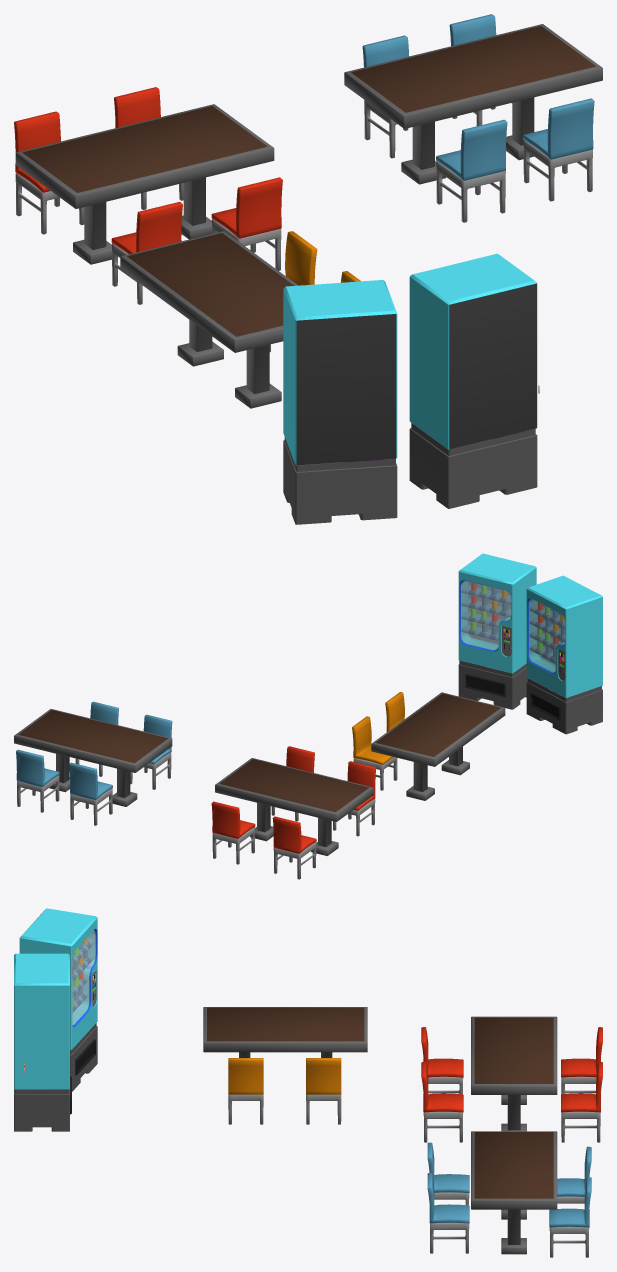
Rendered from MacchinetteETavoli.glb.
The picture shows the model from 3 angles, top to bottom: view 1: azimuth 30°, elevation 25°; view 2: azimuth 150°, elevation 25°; view 3: azimuth 270°, elevation 25°; orthographic projection. The views are drawn at different scales.
Parts seen in each view (by area): view 1: CAFETERIAdemoscene, CAFETERIAdemoscene_1, CAFETERIAdemoscene_33, CAFETERIAdemoscene_32, CAFETERIAdemoscene_34, CAFETERIAdemoscene_35, CAFETERIAdemoscene_45, CAFETERIAdemoscene_46, CAFETERIAdemoscene_36, CAFETERIAdemoscene_47; view 2: CAFETERIAdemoscene_1, CAFETERIAdemoscene, CAFETERIAdemoscene_33, CAFETERIAdemoscene_32, CAFETERIAdemoscene_34, CAFETERIAdemoscene_36, CAFETERIAdemoscene_46, CAFETERIAdemoscene_47, CAFETERIAdemoscene_45, CAFETERIAdemoscene_35; view 3: CAFETERIAdemoscene, CAFETERIAdemoscene_32, CAFETERIAdemoscene_34, CAFETERIAdemoscene_33, CAFETERIAdemoscene_1, CAFETERIAdemoscene_47, CAFETERIAdemoscene_45, CAFETERIAdemoscene_46, CAFETERIAdemoscene_35, CAFETERIAdemoscene_36.
Part boxes in pixels (x1,y1,x2,y2): CAFETERIAdemoscene: (409,253,537,508); CAFETERIAdemoscene_1: (283,280,397,524); CAFETERIAdemoscene_33: (15,104,274,264); CAFETERIAdemoscene_32: (344,24,602,184); CAFETERIAdemoscene_34: (120,231,298,408); CAFETERIAdemoscene_35: (436,98,594,222); CAFETERIAdemoscene_45: (111,177,282,304); CAFETERIAdemoscene_46: (14,87,183,234); CAFETERIAdemoscene_36: (362,14,512,158); CAFETERIAdemoscene_47: (269,231,360,351); CAFETERIAdemoscene_1: (526,575,602,734); CAFETERIAdemoscene: (458,553,536,709); CAFETERIAdemoscene_33: (215,758,373,855); CAFETERIAdemoscene_32: (14,709,172,806); CAFETERIAdemoscene_34: (371,692,505,800); CAFETERIAdemoscene_36: (16,749,112,825); CAFETERIAdemoscene_46: (211,801,316,879); CAFETERIAdemoscene_47: (352,692,404,790); CAFETERIAdemoscene_45: (271,746,376,836); CAFETERIAdemoscene_35: (75,701,172,789); CAFETERIAdemoscene: (14,953,71,1131); CAFETERIAdemoscene_32: (471,1131,557,1254); CAFETERIAdemoscene_34: (203,1007,367,1057); CAFETERIAdemoscene_33: (471,1016,557,1131); CAFETERIAdemoscene_1: (19,908,97,1091); CAFETERIAdemoscene_47: (228,1058,341,1124); CAFETERIAdemoscene_45: (421,1027,463,1142); CAFETERIAdemoscene_46: (561,1027,602,1142); CAFETERIAdemoscene_35: (427,1142,469,1253); CAFETERIAdemoscene_36: (549,1146,591,1257).
Bounding box in the file's own units: 7.67 × 2.53 × 9.05.
Materials: 4 (3 with a texture image).
